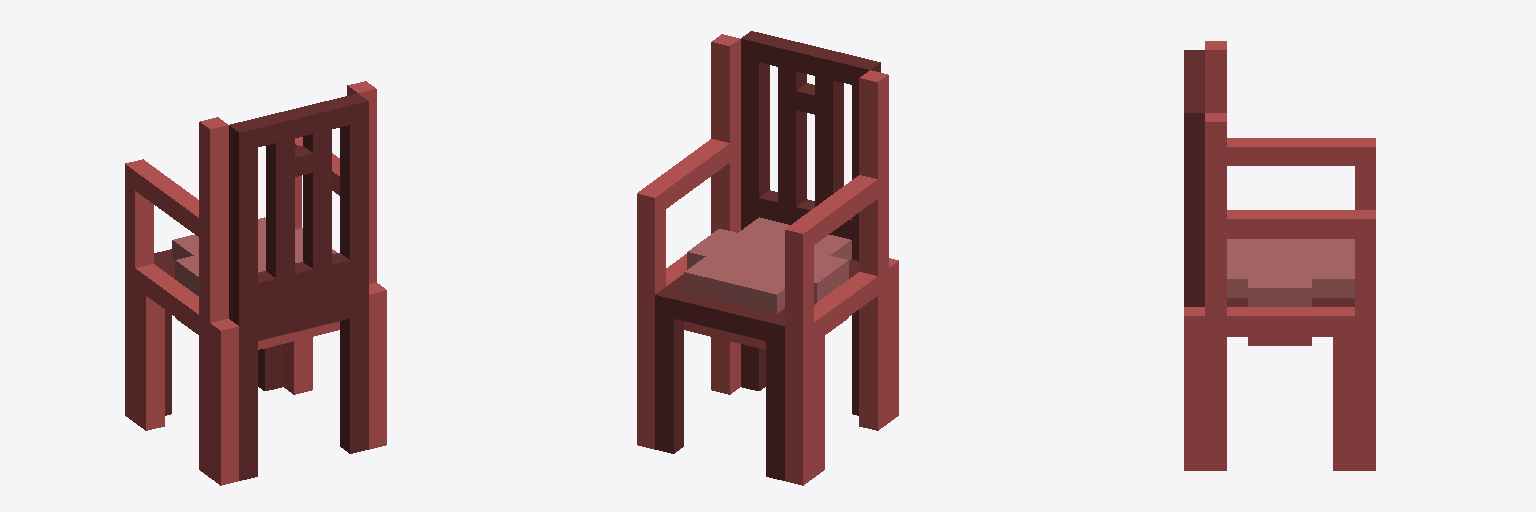
3 renders of one model, left to right at view 1: azimuth 30°, elevation 25°; view 2: azimuth 150°, elevation 25°; view 3: azimuth 270°, elevation 25°, orthographic.
Visible parts, largest first — view 1: object 1; view 2: object 1; view 3: object 1.
Boxes of the visible parts, x1=… form: object 1: x1=125, y1=81, x2=386, y2=485; object 1: x1=637, y1=31, x2=898, y2=485; object 1: x1=1184, y1=41, x2=1375, y2=470.
Size of the model in its own units: 0.9 by 1.8 by 0.9.
1 materials, 1 textured.